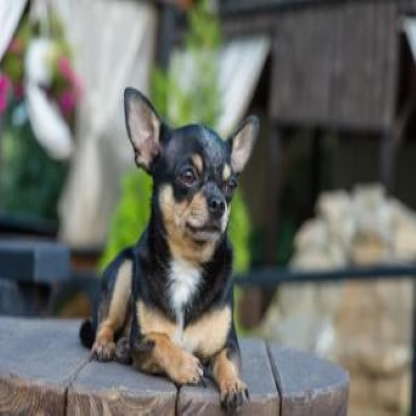chihuahua: (82, 87, 263, 415)
